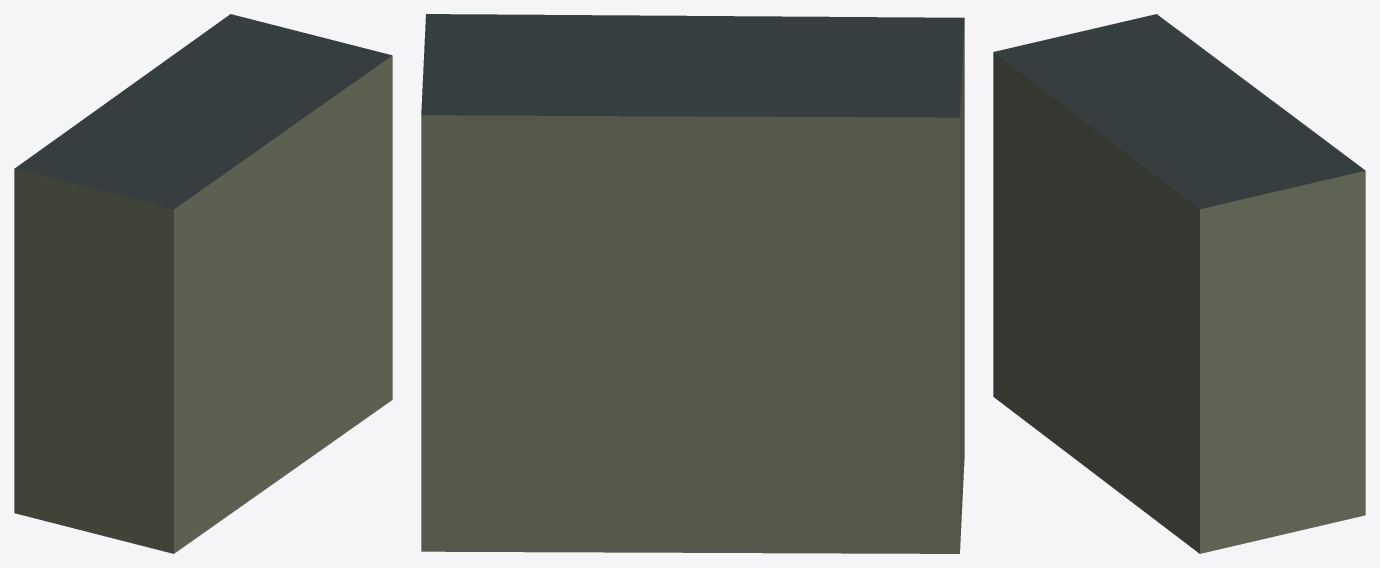
Rendered from nyc-1015256-0.glb.
The picture shows the model from 3 angles, left to right: view 1: azimuth 30°, elevation 25°; view 2: azimuth 150°, elevation 25°; view 3: azimuth 270°, elevation 25°; orthographic projection. The views are drawn at different scales.
Parts seen in each view (by area): view 1: nyc-1015256-0; view 2: nyc-1015256-0; view 3: nyc-1015256-0.
Part boxes in pixels (bbox=[...]): nyc-1015256-0: bbox=[14, 14, 392, 553]; nyc-1015256-0: bbox=[421, 14, 964, 553]; nyc-1015256-0: bbox=[993, 14, 1365, 553].
Bounding box in the file's own units: 19.05 × 15.68 × 15.36.
